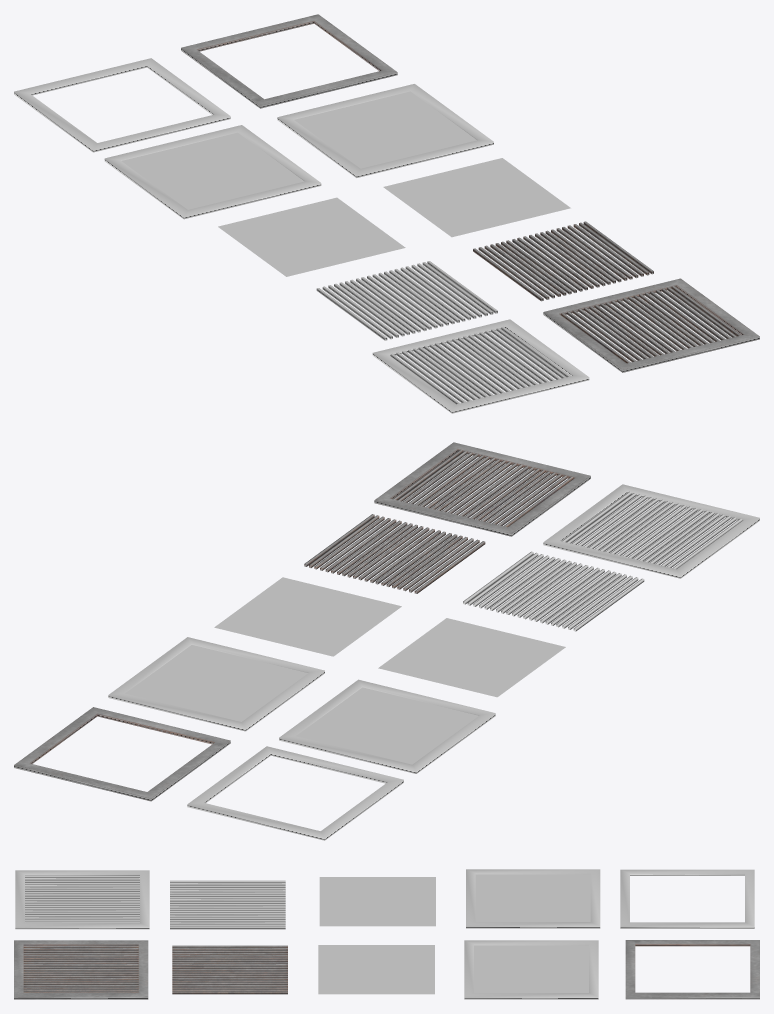
File: SM_Grate_Small_Pack_Free_Scene_JFG.fbx
The picture shows the model from 3 angles, top to bottom: view 1: azimuth 30°, elevation 25°; view 2: azimuth 150°, elevation 25°; view 3: azimuth 270°, elevation 25°; orthographic projection. The views are drawn at different scales.
Visible parts, largest first — view 1: SM_Grate_1_LOW_Clean, SM_Grate_1_LOW, SM_Grate_1_Clean, SM_Grate_1, SM_Grate_1_Bars_LOW, SM_Grate_1_Bars_LOW_Clean, SM_Grate_1_Bars, SM_Grate_1_Bars_Clean, SM_Grate_1_Base, SM_Grate_1_Base_Clean; view 2: SM_Grate_1_LOW, SM_Grate_1_LOW_Clean, SM_Grate_1, SM_Grate_1_Clean, SM_Grate_1_Bars_LOW_Clean, SM_Grate_1_Bars_LOW, SM_Grate_1_Bars_Clean, SM_Grate_1_Bars, SM_Grate_1_Base_Clean, SM_Grate_1_Base; view 3: SM_Grate_1, SM_Grate_1_LOW, SM_Grate_1_Clean, SM_Grate_1_LOW_Clean, SM_Grate_1_Bars_LOW, SM_Grate_1_Bars_LOW_Clean, SM_Grate_1_Bars, SM_Grate_1_Bars_Clean, SM_Grate_1_Base, SM_Grate_1_Base_Clean.
Part boxes in pixels (x1,y1,x2,y2): SM_Grate_1_LOW_Clean: (104, 125, 321, 219); SM_Grate_1_LOW: (277, 84, 493, 177); SM_Grate_1_Clean: (372, 319, 589, 413); SM_Grate_1: (543, 278, 759, 372); SM_Grate_1_Bars_LOW: (383, 158, 570, 237); SM_Grate_1_Bars_LOW_Clean: (218, 197, 405, 276); SM_Grate_1_Bars: (473, 221, 653, 301); SM_Grate_1_Bars_Clean: (316, 261, 497, 340); SM_Grate_1_Base: (181, 14, 397, 108); SM_Grate_1_Base_Clean: (14, 58, 230, 152); SM_Grate_1_LOW: (108, 637, 324, 731); SM_Grate_1_LOW_Clean: (279, 679, 495, 773); SM_Grate_1: (374, 442, 590, 536); SM_Grate_1_Clean: (543, 484, 759, 578); SM_Grate_1_Bars_LOW_Clean: (378, 618, 565, 697); SM_Grate_1_Bars_LOW: (214, 577, 401, 656); SM_Grate_1_Bars_Clean: (463, 551, 644, 631); SM_Grate_1_Bars: (304, 514, 485, 593); SM_Grate_1_Base_Clean: (187, 746, 403, 840); SM_Grate_1_Base: (14, 707, 230, 801); SM_Grate_1: (14, 940, 148, 999); SM_Grate_1_LOW: (464, 940, 598, 999); SM_Grate_1_Clean: (15, 870, 149, 929); SM_Grate_1_LOW_Clean: (466, 869, 600, 928); SM_Grate_1_Bars_LOW: (318, 945, 434, 994); SM_Grate_1_Bars_LOW_Clean: (319, 877, 435, 926); SM_Grate_1_Bars: (172, 945, 287, 994); SM_Grate_1_Bars_Clean: (170, 880, 285, 929); SM_Grate_1_Base: (625, 940, 759, 999); SM_Grate_1_Base_Clean: (620, 869, 754, 928).
Size of the model in its own units: 225 by 2.05 by 556.
